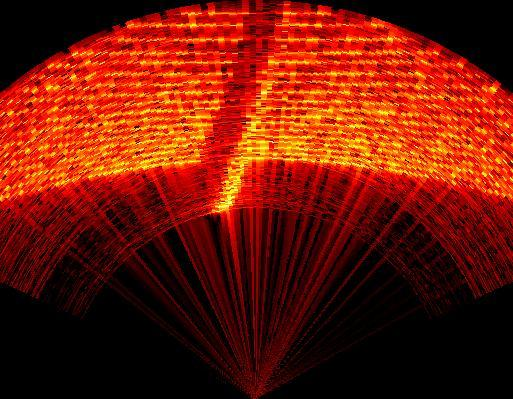pipe: (175, 2, 291, 211)
